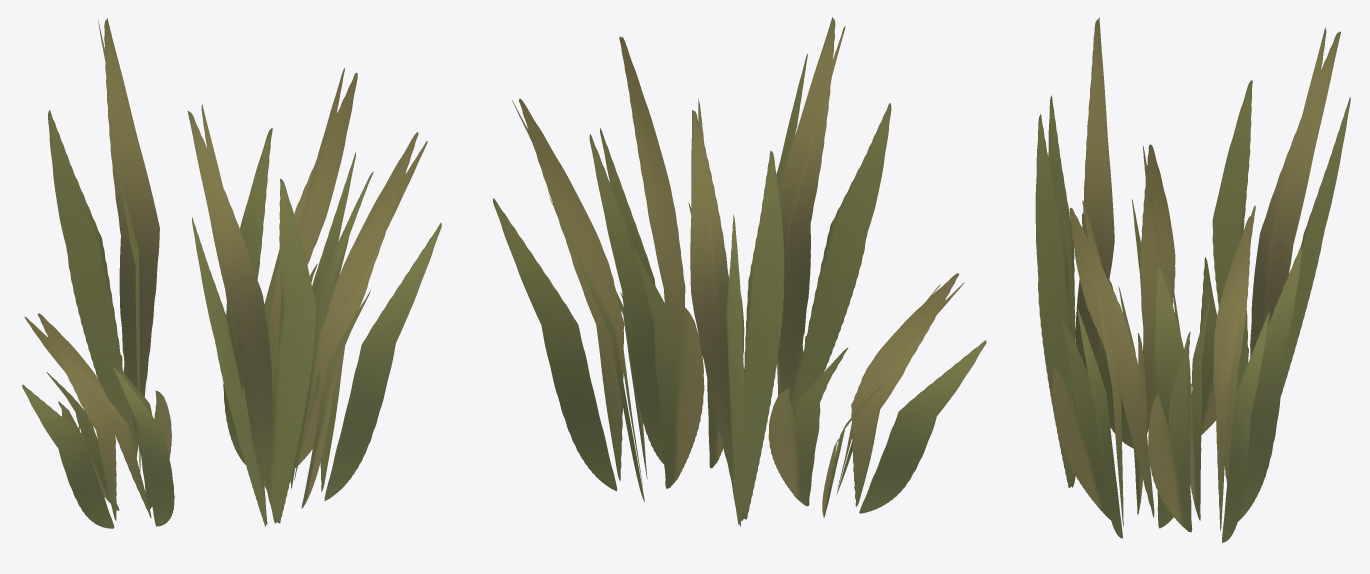
File: F_SandWeed_F.FBX
The picture shows the model from 3 angles, left to right: view 1: azimuth 30°, elevation 25°; view 2: azimuth 150°, elevation 25°; view 3: azimuth 270°, elevation 25°; orthographic projection. The views are drawn at different scales.
Parts seen in each view (by area): view 1: F_SandWeed_F; view 2: F_SandWeed_F; view 3: F_SandWeed_F.
Boxes of the visible parts, left/top/right/bottom form: F_SandWeed_F: left=22, top=18, right=441, bottom=528; F_SandWeed_F: left=493, top=17, right=986, bottom=526; F_SandWeed_F: left=1035, top=17, right=1350, bottom=542.
Size of the model in its own units: 43.36 by 45.83 by 28.68.
1 material, 1 textured.
